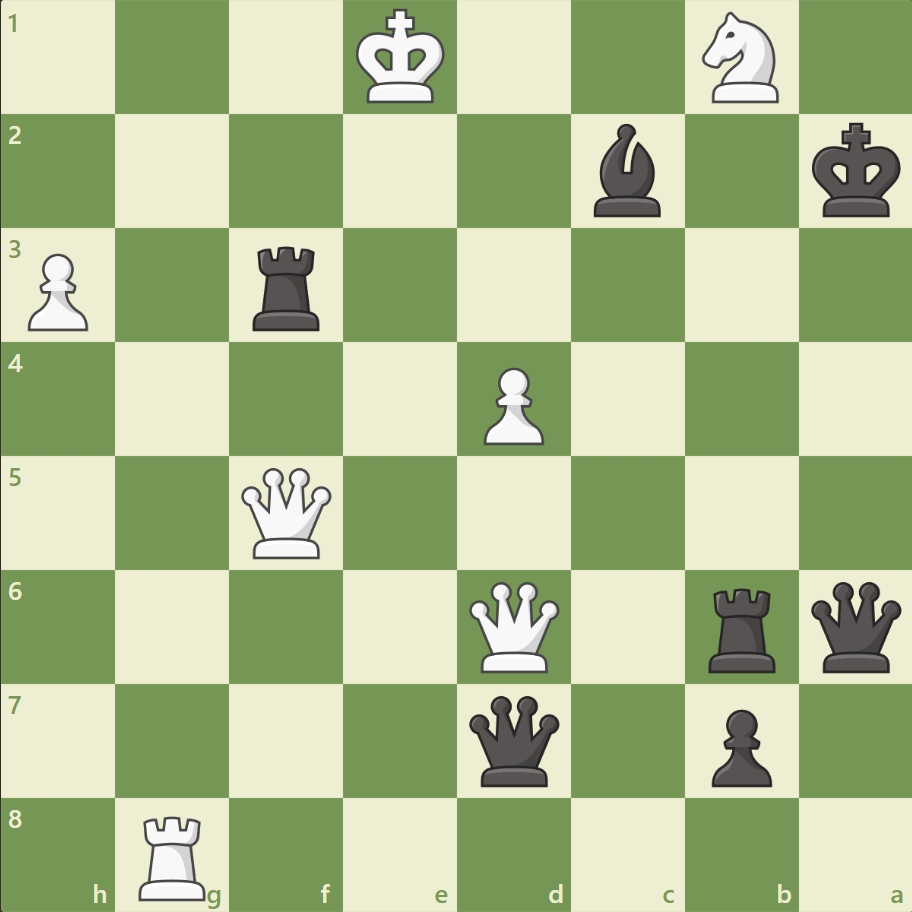K: (351, 4, 451, 112)
N: (692, 7, 789, 110)
P: (474, 359, 549, 450), (20, 246, 95, 337)
Q: (464, 576, 563, 676), (237, 463, 336, 562)
R: (133, 806, 215, 904)
b: (585, 120, 669, 222)
k: (806, 117, 906, 225)
p: (701, 700, 776, 791)
q: (805, 576, 904, 676), (464, 690, 563, 789)
r: (700, 579, 783, 676), (246, 239, 329, 336)
